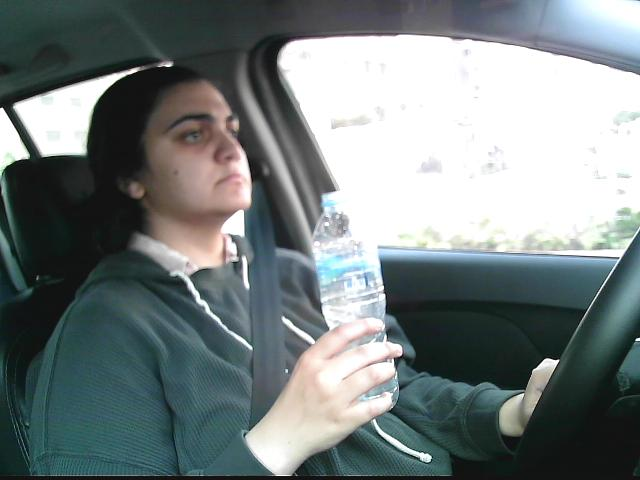Drinking: (311, 183, 406, 420)
